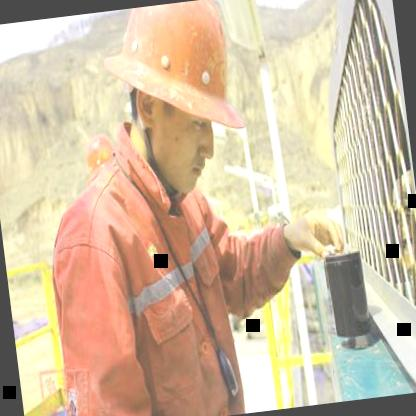helmet: (102, 0, 264, 204)
